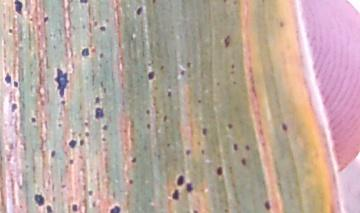tarspot: (51, 65, 73, 98), (12, 1, 28, 18), (32, 191, 47, 207), (214, 162, 227, 179), (172, 173, 187, 187), (168, 188, 184, 201), (222, 33, 234, 50), (105, 203, 125, 213), (184, 181, 198, 195), (99, 79, 111, 95), (93, 106, 107, 119), (8, 101, 21, 114), (68, 201, 82, 213), (262, 197, 273, 212), (66, 138, 80, 149), (135, 4, 146, 18), (146, 69, 157, 82), (279, 122, 290, 135), (3, 73, 13, 87), (239, 156, 250, 168), (79, 47, 92, 57), (92, 94, 103, 105), (225, 121, 236, 131), (231, 142, 241, 153), (243, 142, 253, 153), (49, 148, 58, 160), (143, 106, 153, 116), (165, 88, 175, 98), (195, 96, 205, 106), (29, 114, 38, 125), (86, 186, 95, 197), (199, 127, 210, 136), (145, 120, 153, 132), (98, 51, 107, 61), (127, 177, 136, 187), (185, 59, 194, 69), (58, 99, 69, 107), (81, 119, 92, 127), (221, 206, 233, 213), (42, 14, 51, 23), (46, 204, 55, 213), (99, 23, 108, 32), (59, 182, 68, 191), (90, 199, 99, 208), (23, 163, 32, 172), (17, 182, 26, 191), (101, 122, 109, 132), (129, 156, 139, 164), (158, 64, 168, 72), (185, 147, 193, 157), (78, 1, 90, 7), (100, 134, 108, 143), (164, 141, 173, 149), (278, 21, 287, 29), (51, 43, 59, 52), (13, 80, 20, 90), (68, 158, 78, 165), (179, 68, 186, 78), (231, 78, 238, 88), (215, 78, 221, 89), (148, 1, 161, 6), (7, 27, 15, 35), (199, 148, 207, 156), (80, 23, 88, 31), (51, 195, 58, 204), (79, 138, 86, 147), (190, 207, 200, 213), (92, 19, 99, 27), (84, 131, 92, 138), (229, 62, 237, 69), (233, 1, 242, 7), (104, 18, 112, 24), (162, 114, 168, 122), (229, 69, 237, 75), (57, 122, 64, 128), (70, 130, 76, 137), (196, 140, 202, 147), (78, 131, 83, 139), (221, 1, 231, 5), (18, 204, 25, 209)
